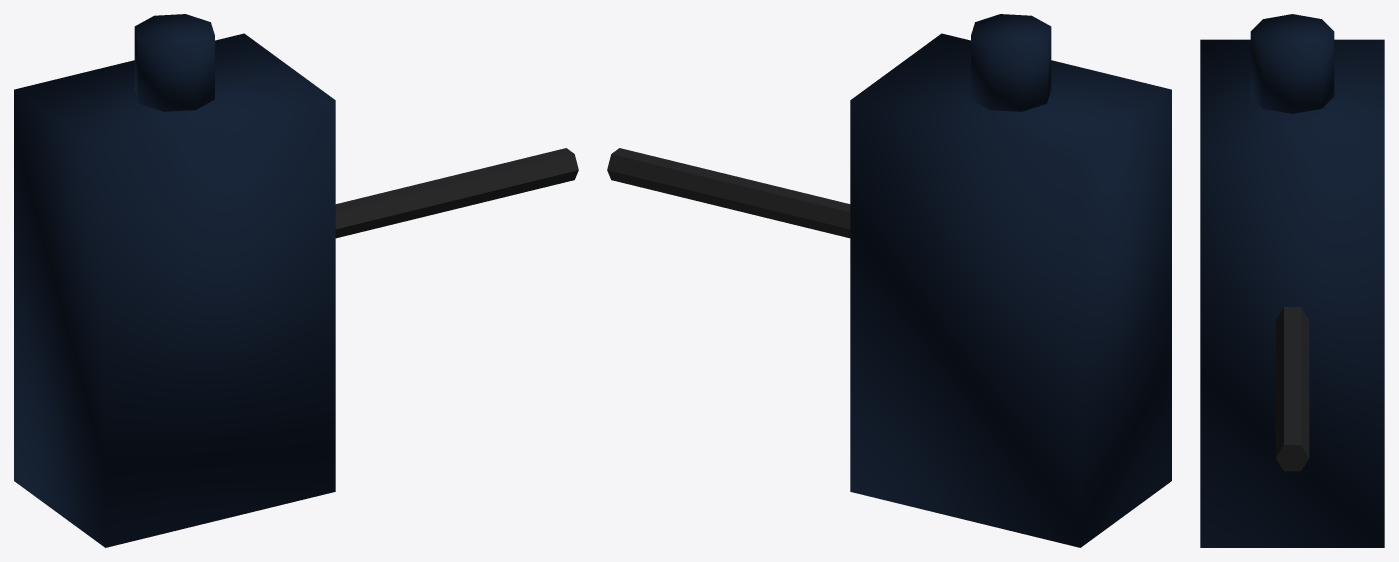
File: SPRAYER.dae
3 views of the same model, side by side, from view 1: azimuth 30°, elevation 25°; view 2: azimuth 150°, elevation 25°; view 3: azimuth 270°, elevation 25° (orthographic).
Visible parts, largest first — view 1: SPRAYER; view 2: SPRAYER; view 3: SPRAYER.
Part boxes in pixels (box(x1,y1,x2,y2)): SPRAYER: box(14, 14, 578, 547); SPRAYER: box(607, 14, 1171, 547); SPRAYER: box(1200, 14, 1384, 547).
Size of the model in its own units: 0.71 by 0.22 by 0.605.
